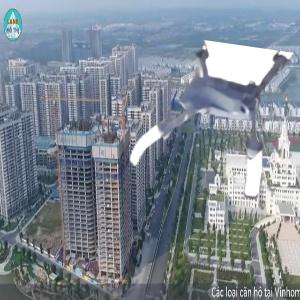drone: (128, 42, 288, 202)
